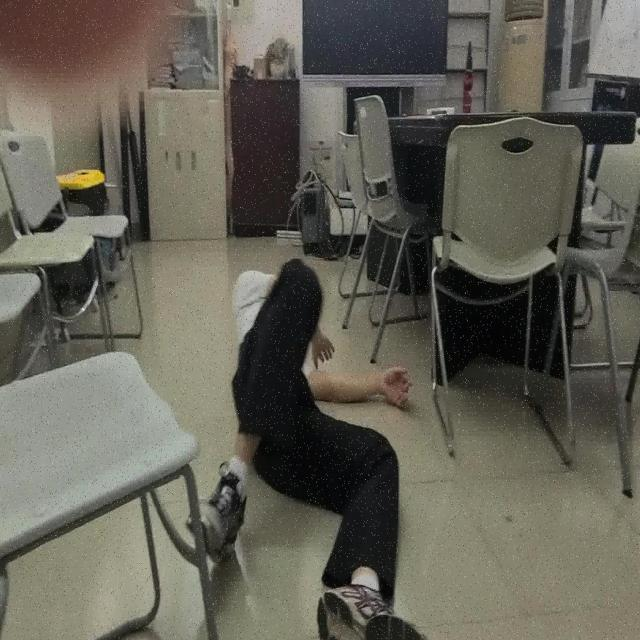fall: (186, 253, 432, 640)
